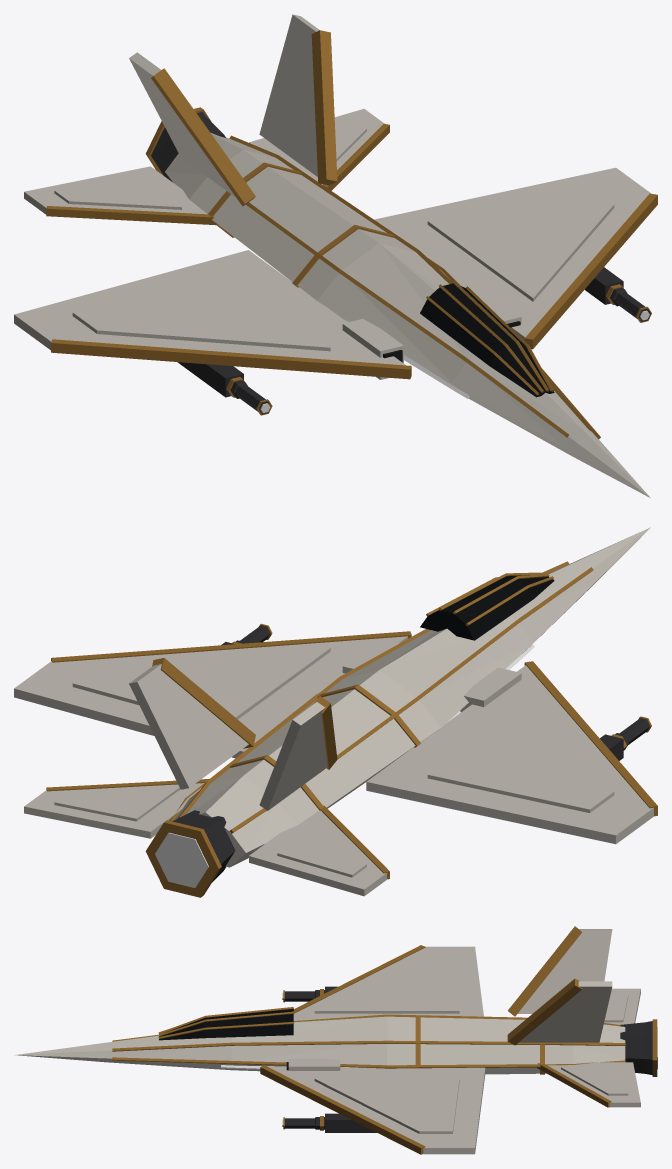
The model's file is fighter.glb.
3 views of the same model, one above another, from view 1: azimuth 30°, elevation 25°; view 2: azimuth 150°, elevation 25°; view 3: azimuth 270°, elevation 25° (orthographic). The views are drawn at different scales.
Visible parts, largest first — view 1: body; view 2: body; view 3: body.
Boxes of the visible parts, left/top/right/bottom form: body: left=14, top=14, right=657, bottom=497; body: left=14, top=527, right=657, bottom=897; body: left=14, top=926, right=657, bottom=1154.
Bounding box in the file's own units: 9.28 × 2.52 × 12.43.
